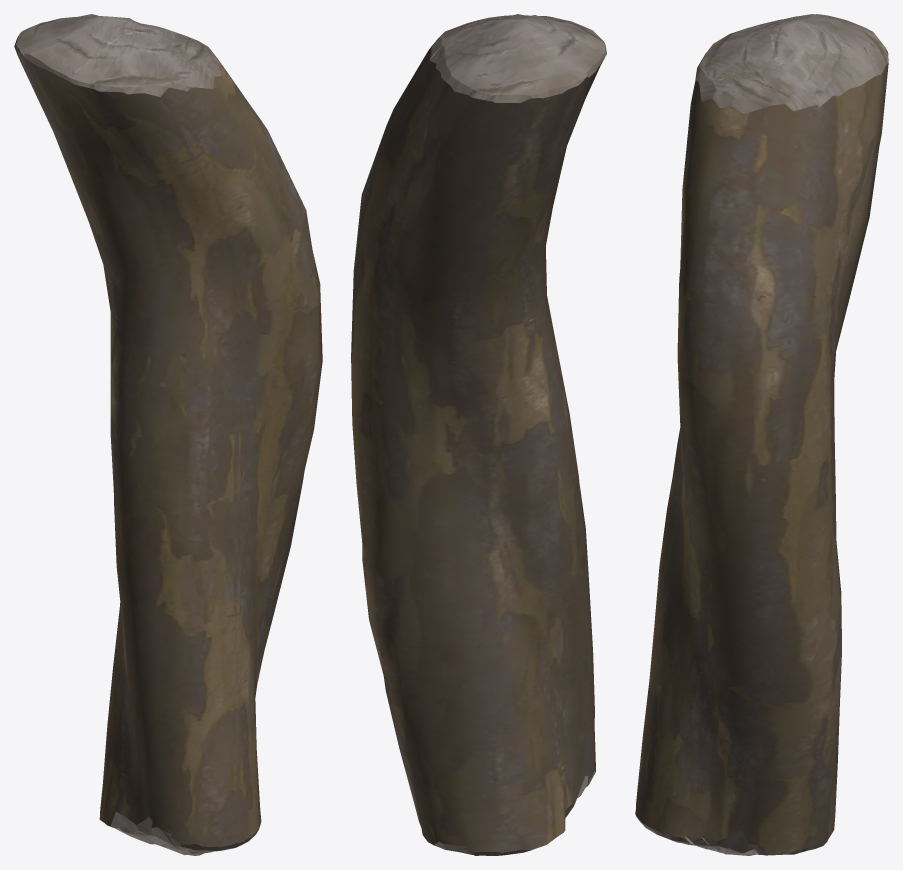
3 views of the same model, side by side, from view 1: azimuth 30°, elevation 25°; view 2: azimuth 150°, elevation 25°; view 3: azimuth 270°, elevation 25° (orthographic). The views are drawn at different scales.
Parts seen in each view (by area): view 1: SM_Yew_01_half_top_LOD0; view 2: SM_Yew_01_half_top_LOD0; view 3: SM_Yew_01_half_top_LOD0.
Boxes of the visible parts, x1,y1,x2,y2 form: SM_Yew_01_half_top_LOD0: [14, 14, 322, 855]; SM_Yew_01_half_top_LOD0: [351, 14, 606, 855]; SM_Yew_01_half_top_LOD0: [635, 14, 888, 855].
Size of the model in its own units: 1.35 by 4.15 by 1.17.
Materials: 1 (1 with a texture image).
